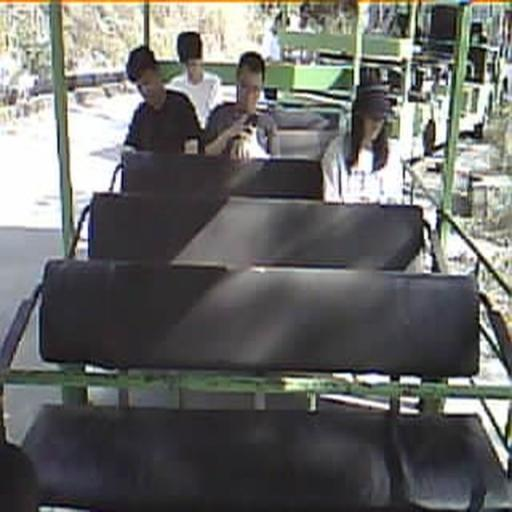persona: (320, 83, 406, 205), (122, 44, 204, 154), (202, 50, 278, 162), (166, 30, 224, 130)
